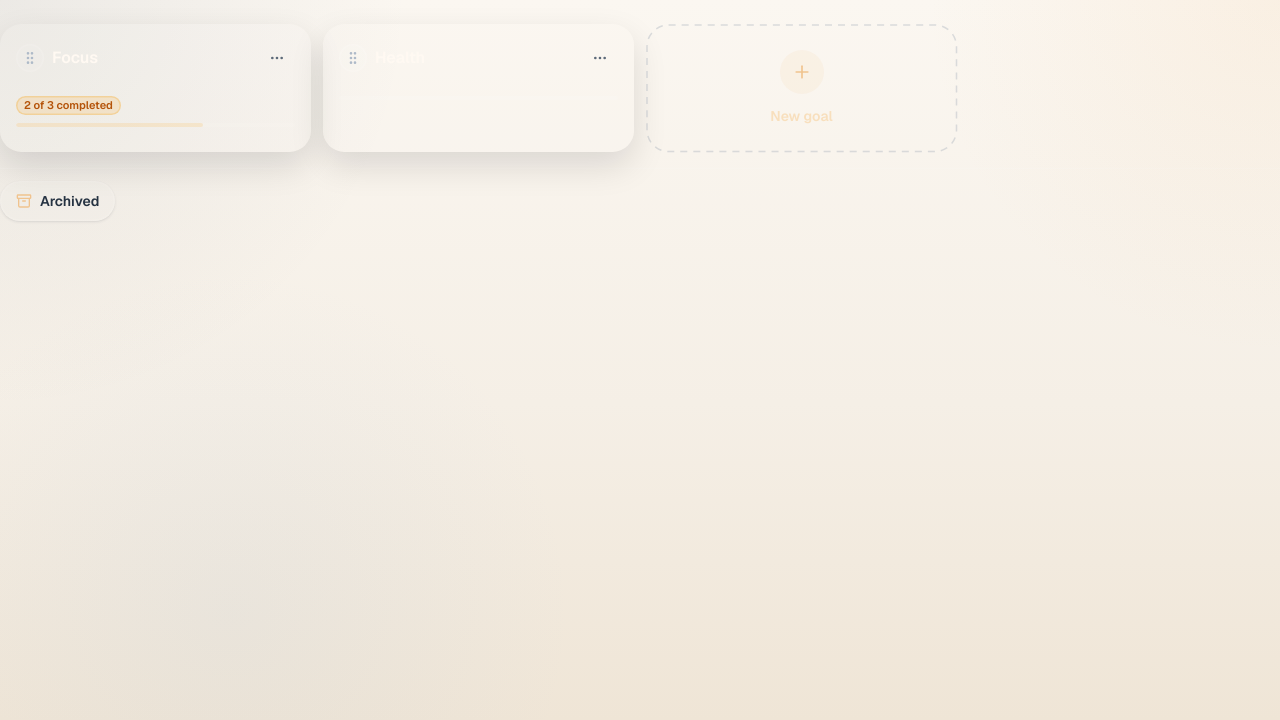
it: GoalsSurface › asks for the initial group name before combining two ungrouped goals
Press the mouse on the 1st button named "Drag goal": (30, 58) [16,44,44,72]
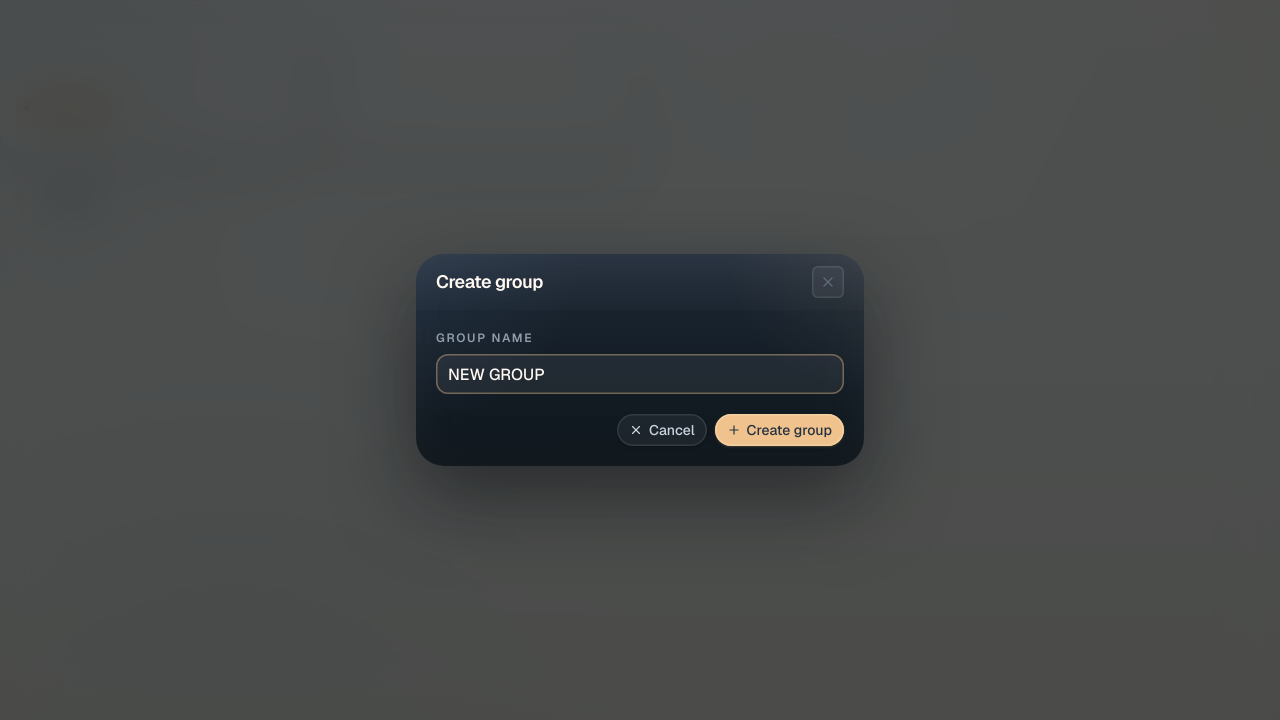
Result: the dialog "Create group" is shown at [416,254,864,466]
Result: the field labelled "Group name" holds "NEW GROUP"
Replace the text in the field labelled "Group name" with "Health plan": (640, 374) [436,354,844,394]
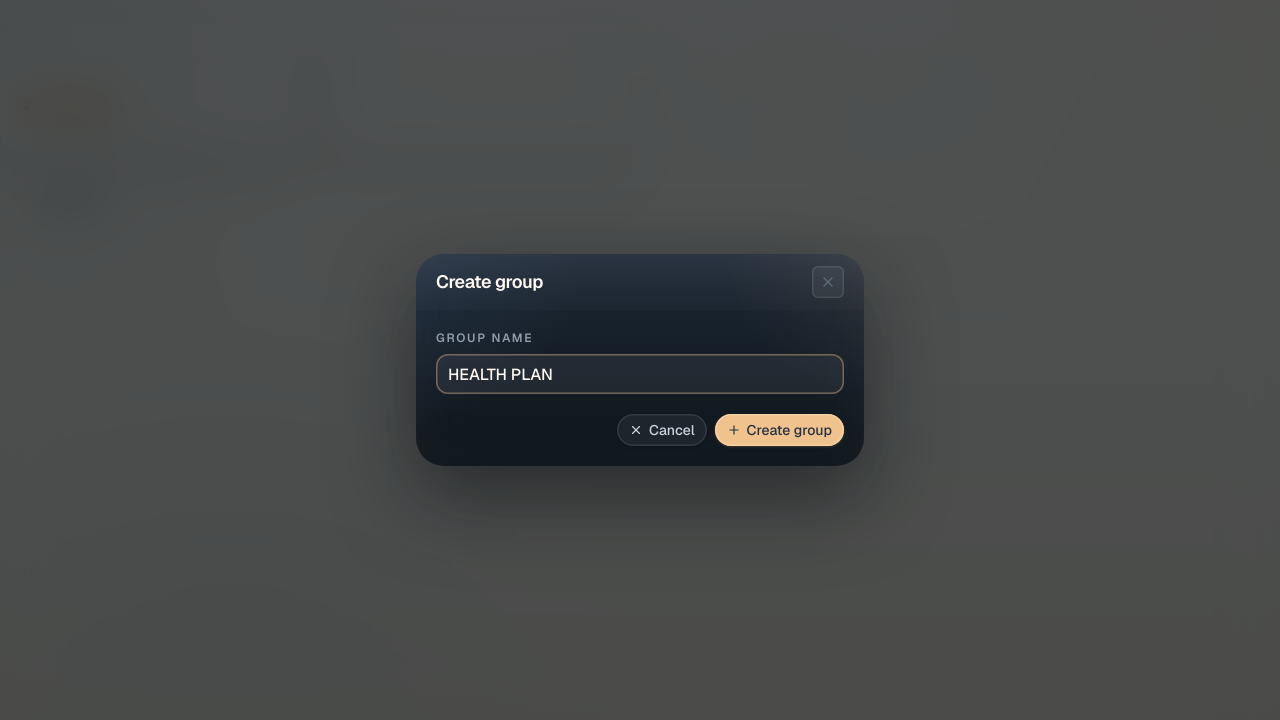
Click the button "Create group": (779, 430) [715,414,844,446]
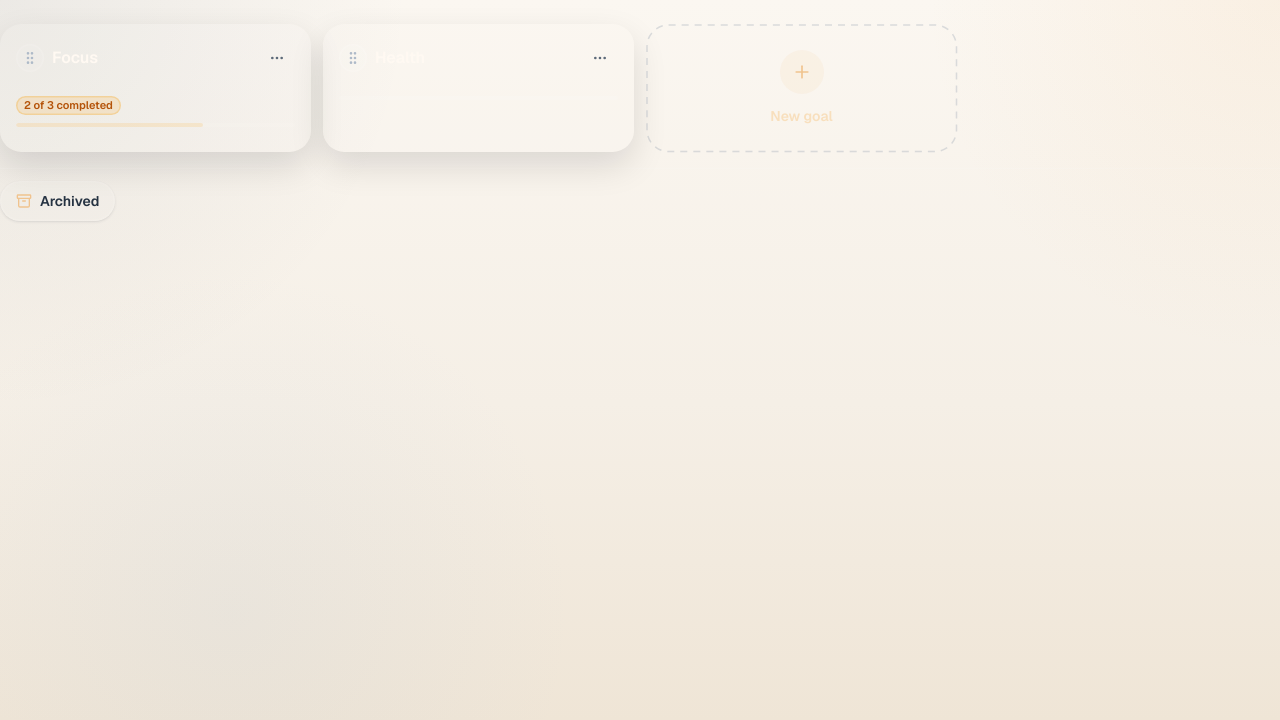
Expected: the button "Focus 2 of 3 completed" is shown, [0,24,311,152]
Result: the heading "Create group" is gone
